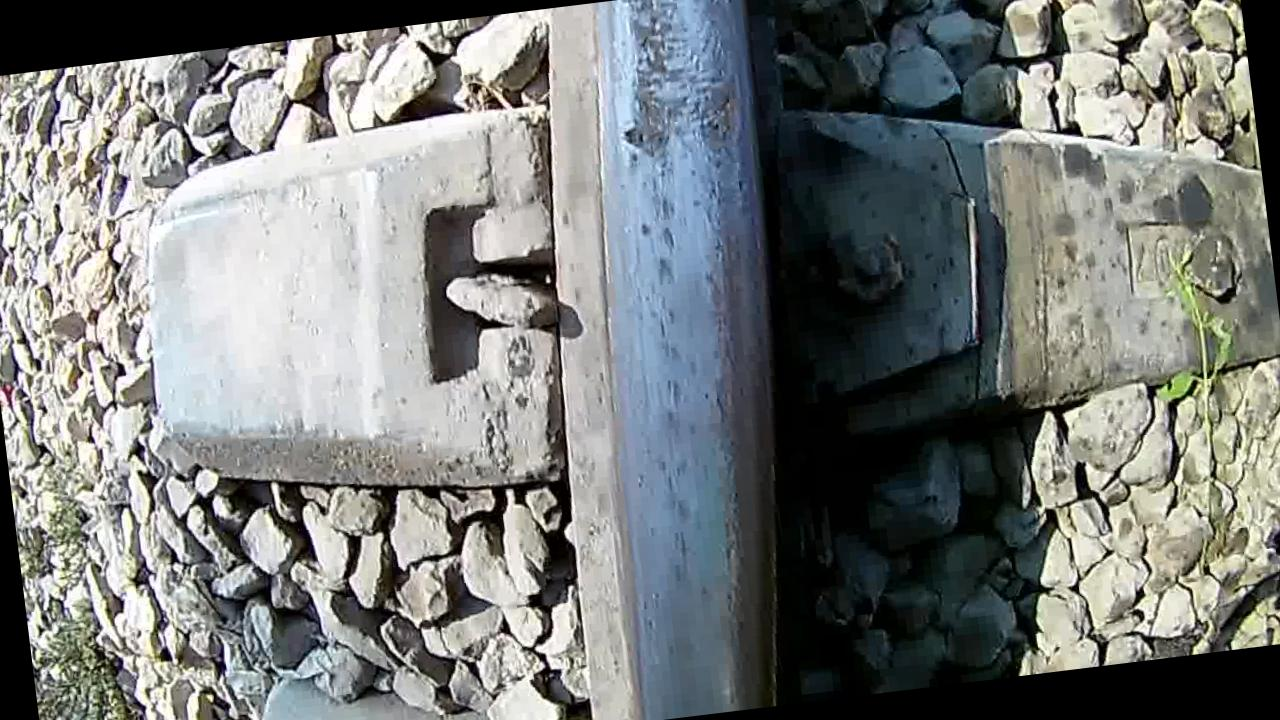crack: (559, 0, 828, 720)
